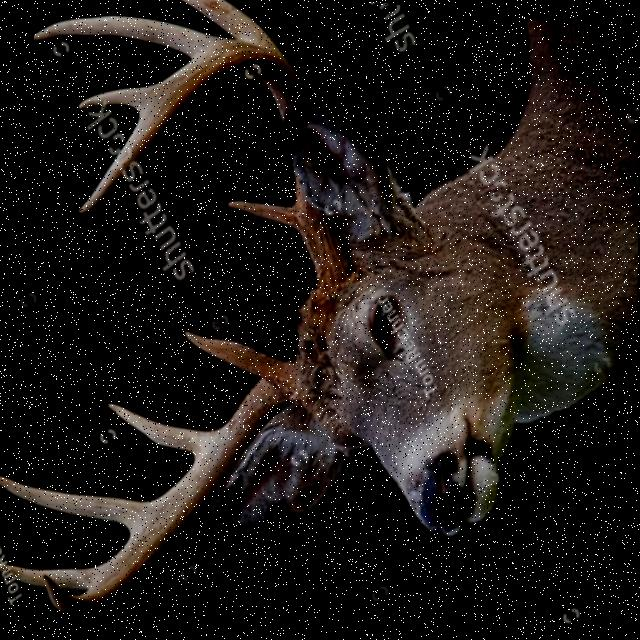L-G1: (226, 200, 299, 232)
L-G2: (179, 0, 276, 50)
L-G3: (32, 15, 218, 57)
R-G1: (184, 329, 283, 380)
R-G2: (104, 403, 220, 460)
R-G3: (0, 474, 154, 534)
